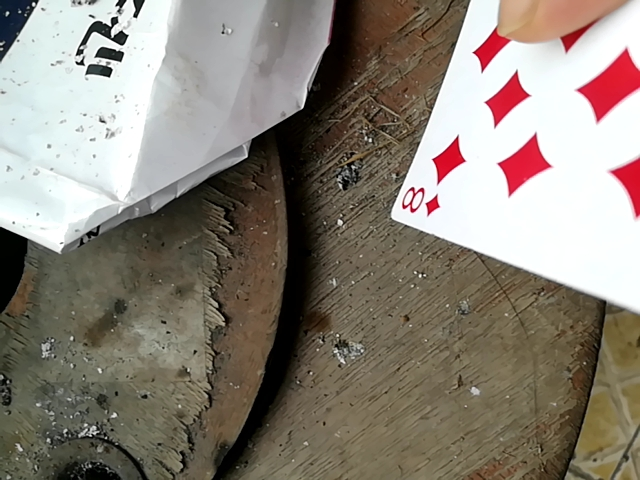fk 8: (388, 2, 640, 333)
